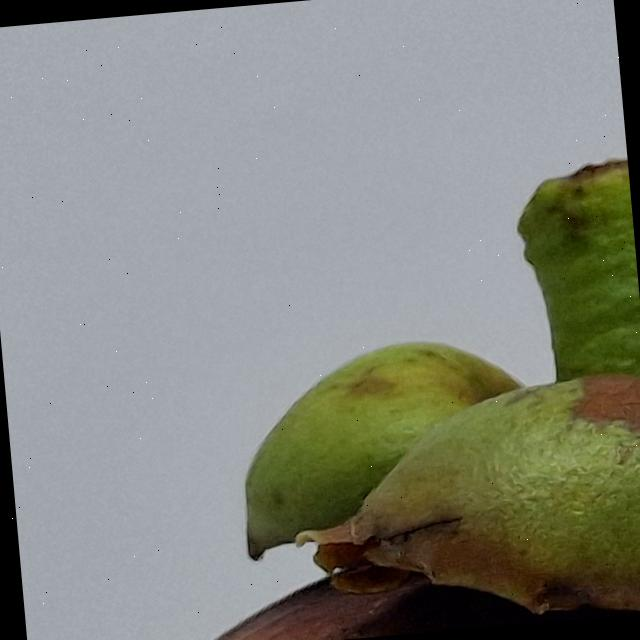mangosteen: (0, 78, 640, 640)
